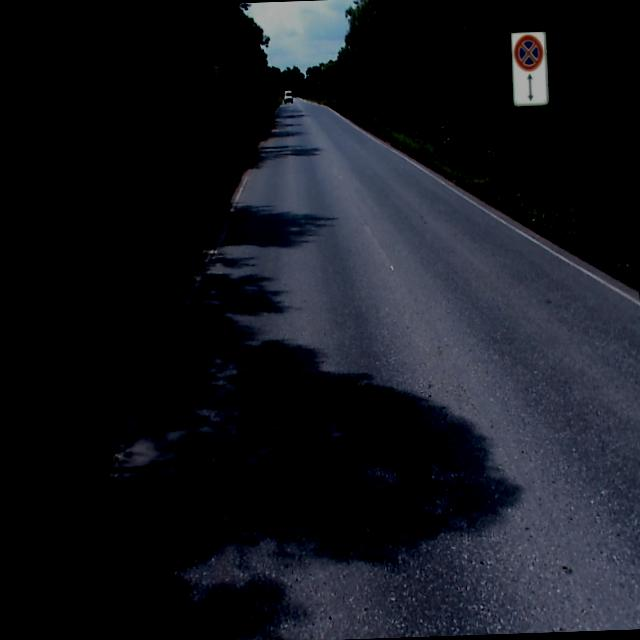road: (17, 96, 640, 640)
